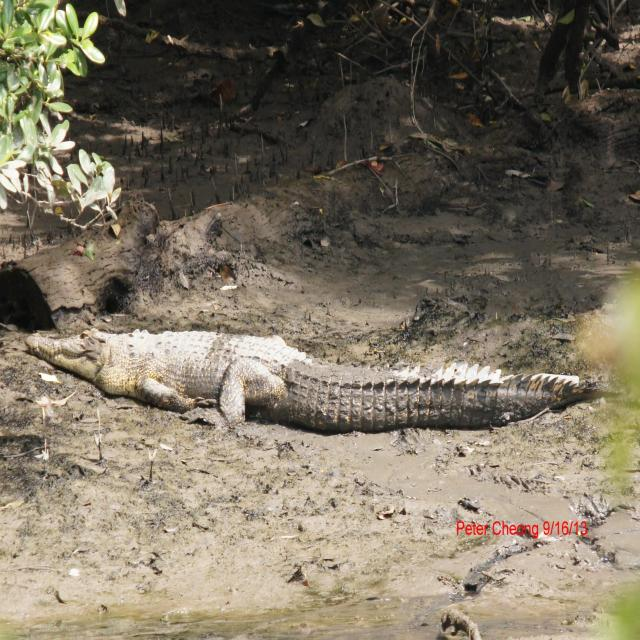crocodile: (12, 290, 640, 500)
